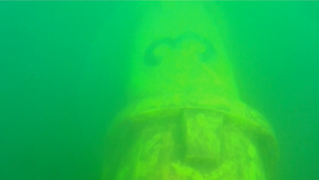3: (142, 32, 217, 67)
pipe: (107, 1, 280, 179)
